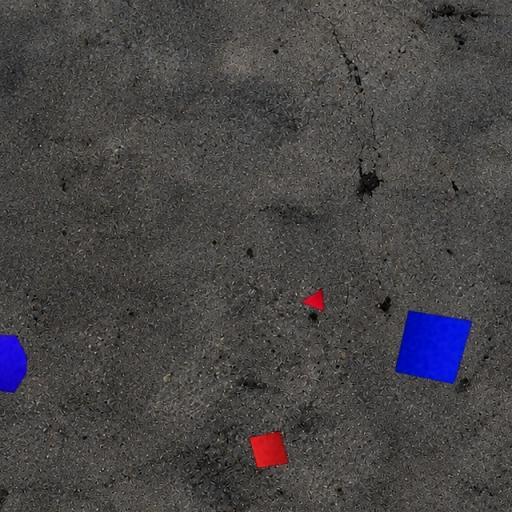BLUE_SQUARE: (394, 310, 472, 384)
RED_SQUARE: (249, 430, 289, 469)
